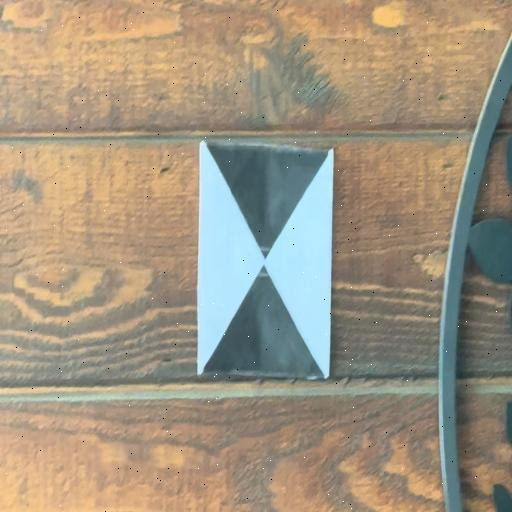target: (200, 142, 330, 379)
